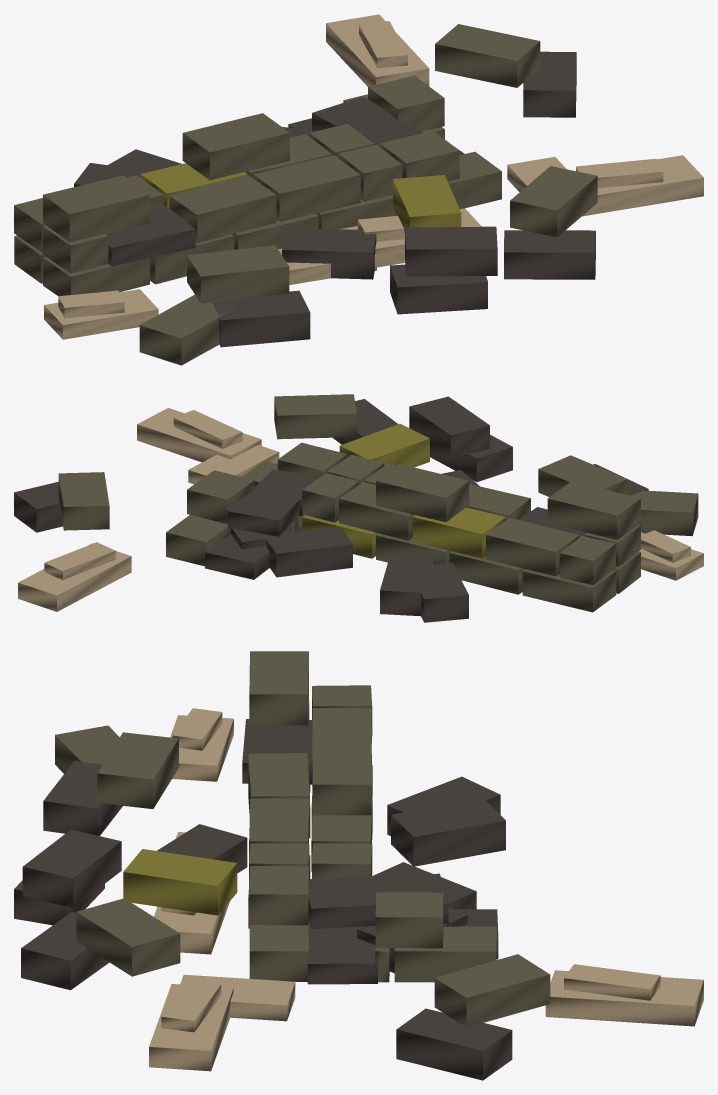
File: SM_SacosRemateEspejo_v2_Irregular_e2_MuyDanado_LOD0.fbx
The picture shows the model from 3 angles, top to bottom: view 1: azimuth 30°, elevation 25°; view 2: azimuth 150°, elevation 25°; view 3: azimuth 270°, elevation 25°; orthographic projection. The views are drawn at different scales.
Visible parts, largest first — view 1: SM_sacos_piezas_v30_LOD0; view 2: SM_sacos_piezas_v30_LOD0; view 3: SM_sacos_piezas_v30_LOD0.
Boxes of the visible parts, x1=… form: SM_sacos_piezas_v30_LOD0: x1=14, y1=14, x2=703, y2=365; SM_sacos_piezas_v30_LOD0: x1=14, y1=394, x2=703, y2=622; SM_sacos_piezas_v30_LOD0: x1=14, y1=651, x2=703, y2=1080.
Bounding box in the file's own units: 6.58 × 0.885 × 5.49.
